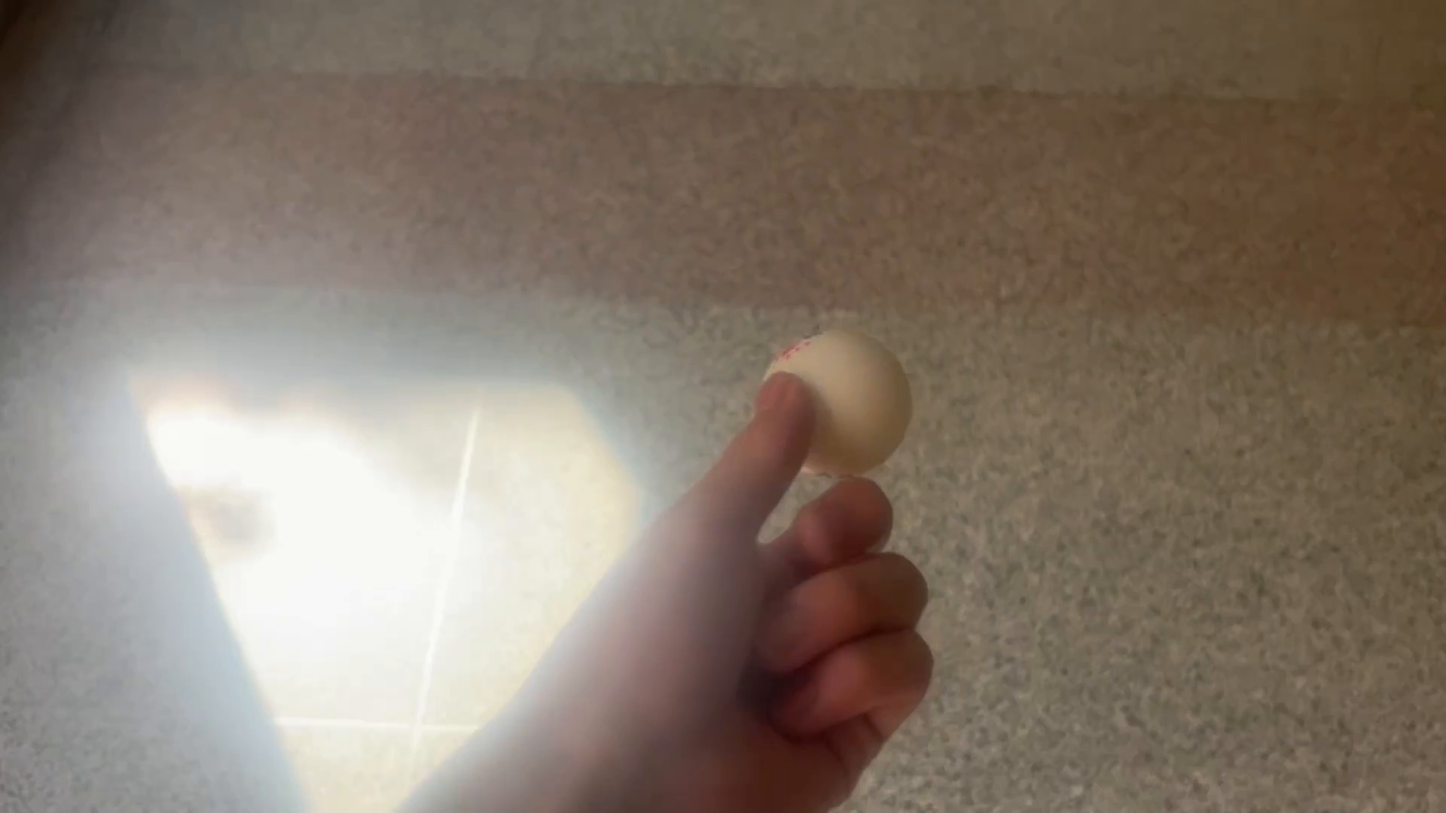Ball: (746, 319, 911, 484)
